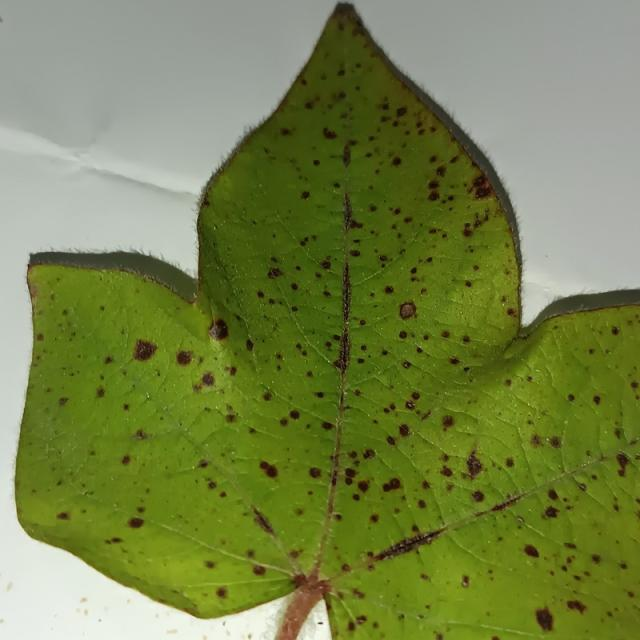Bacterial_Blight: (124, 335, 161, 362), (192, 371, 218, 393), (208, 318, 230, 340), (309, 577, 333, 597), (534, 607, 553, 631), (426, 178, 443, 203), (466, 456, 483, 477), (398, 300, 417, 318), (259, 461, 278, 479), (381, 477, 401, 493), (615, 453, 630, 474), (566, 599, 585, 615), (176, 349, 192, 366), (473, 185, 490, 199), (523, 544, 539, 558), (127, 516, 144, 529), (544, 505, 559, 519), (441, 414, 454, 429), (322, 127, 337, 140), (267, 267, 283, 279), (347, 217, 361, 230), (548, 435, 562, 448), (471, 490, 485, 503), (547, 488, 560, 501), (398, 424, 411, 437), (309, 466, 322, 479), (357, 480, 370, 493), (462, 223, 473, 238), (134, 429, 147, 441), (362, 448, 375, 460), (344, 467, 356, 480), (440, 466, 453, 478), (530, 434, 542, 446), (216, 587, 228, 599), (252, 565, 265, 576), (395, 106, 407, 117), (56, 511, 70, 520), (289, 409, 300, 420), (435, 166, 446, 177), (320, 259, 331, 270), (428, 180, 440, 190), (96, 387, 106, 398), (262, 391, 272, 402), (405, 400, 416, 410), (321, 421, 332, 431), (225, 413, 236, 423), (386, 435, 396, 446), (198, 459, 209, 469), (245, 339, 254, 351), (300, 190, 310, 200), (104, 355, 114, 365), (392, 156, 402, 166), (58, 396, 68, 406), (121, 455, 131, 465), (207, 480, 217, 490), (384, 285, 395, 294), (449, 356, 460, 365), (349, 249, 361, 257), (398, 330, 408, 339), (279, 417, 288, 427), (205, 560, 215, 569), (369, 514, 379, 523), (611, 326, 620, 335), (441, 330, 450, 339), (411, 391, 420, 400), (290, 282, 299, 291), (402, 360, 411, 369), (593, 395, 601, 405), (567, 393, 575, 402), (36, 333, 44, 341), (256, 290, 264, 298), (123, 403, 130, 411), (410, 267, 418, 274), (312, 159, 320, 166), (99, 305, 105, 312)
Cotton: (15, 6, 639, 639)
